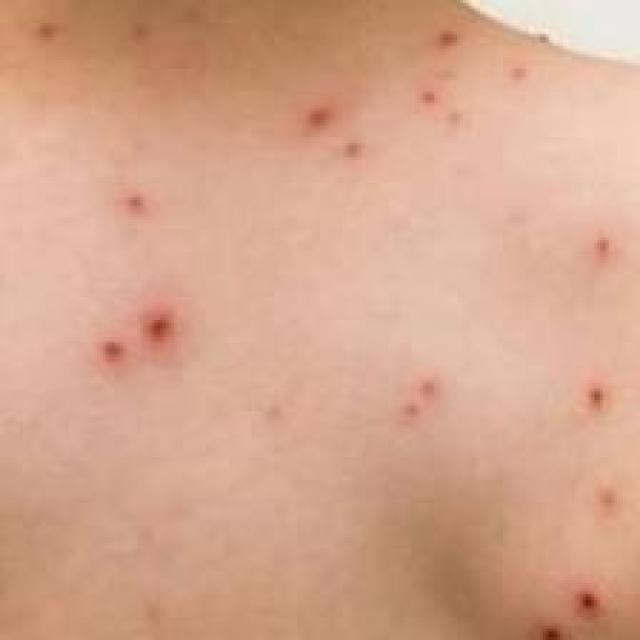Eczema: (385, 218, 640, 640), (299, 25, 536, 163), (89, 304, 183, 376), (121, 189, 141, 218)
